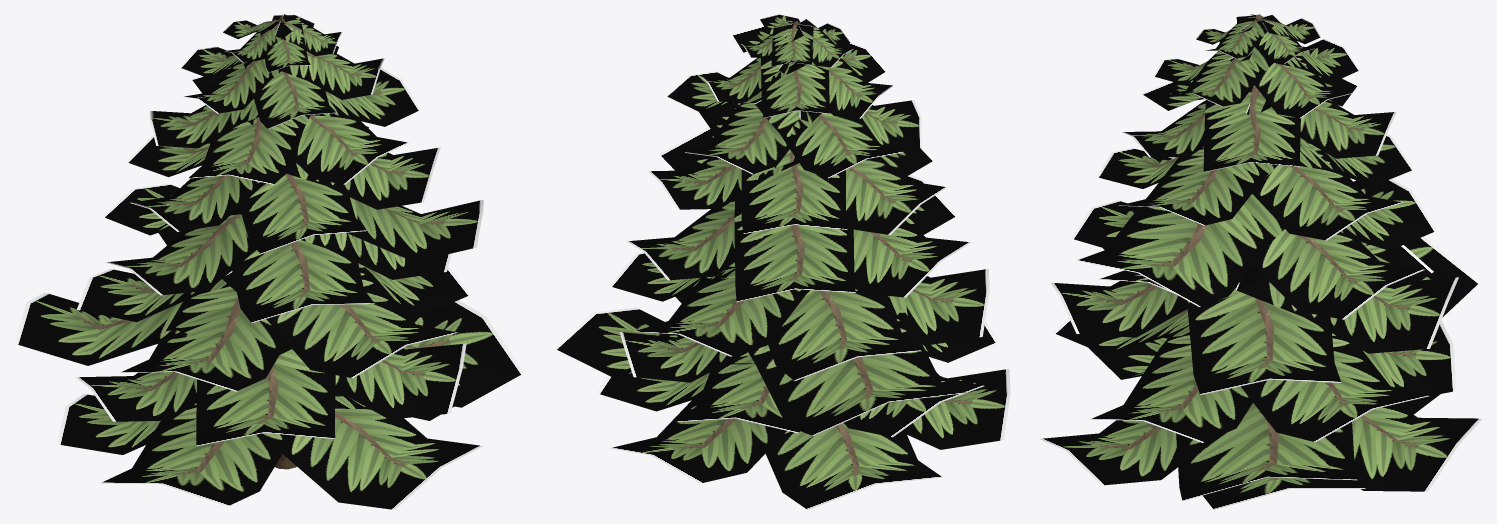
File: pine.glb
3 views of the same model, side by side, from view 1: azimuth 30°, elevation 25°; view 2: azimuth 150°, elevation 25°; view 3: azimuth 270°, elevation 25° (orthographic). The views are drawn at different scales.
Visible parts, largest first — view 1: Pine_1_Cylinder.025; view 2: Pine_1_Cylinder.025; view 3: Pine_1_Cylinder.025.
Boxes of the visible parts, x1=… form: Pine_1_Cylinder.025: x1=14, y1=14, x2=524, y2=509; Pine_1_Cylinder.025: x1=553, y1=14, x2=1010, y2=509; Pine_1_Cylinder.025: x1=1040, y1=14, x2=1482, y2=509.
Bounding box in the file's own units: 7.73 × 7.58 × 6.76.
2 materials, 2 textured.
